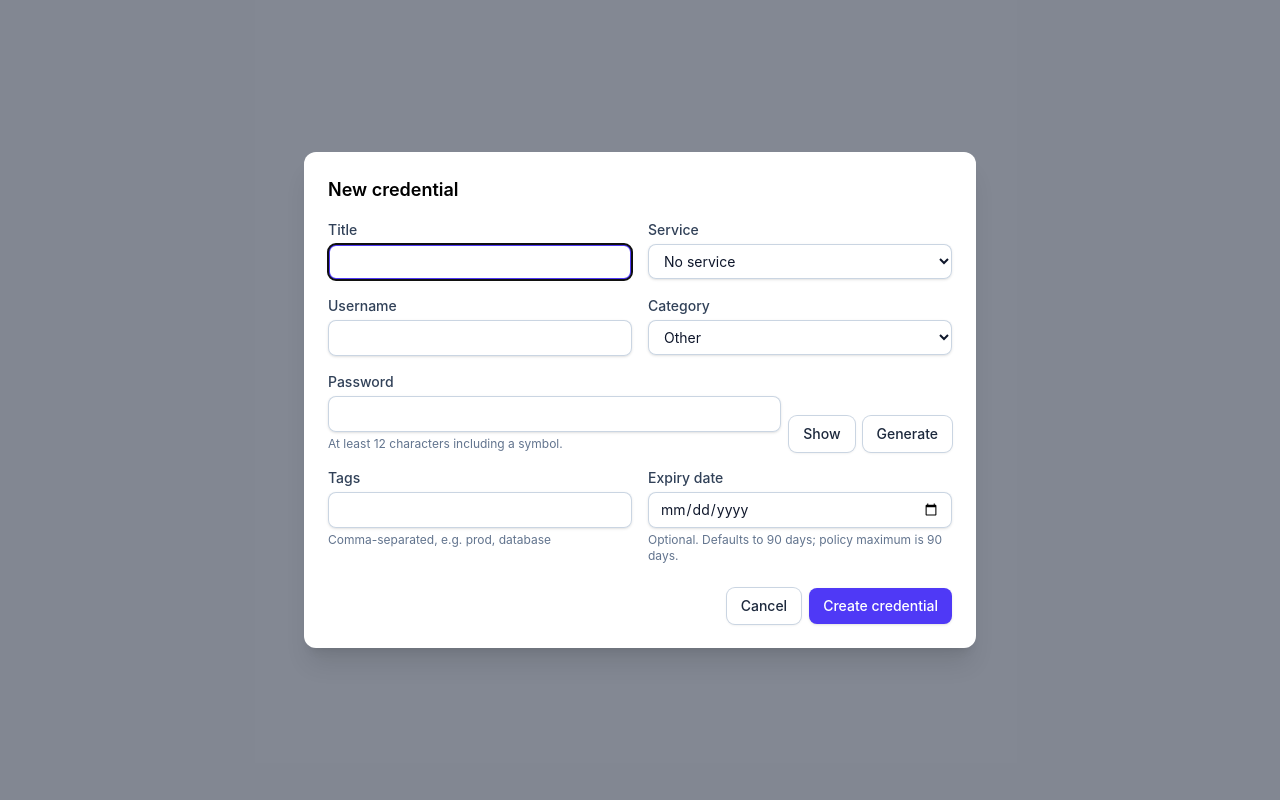
CredentialFormModal (create) › generates a password on the server and shows its strength
The image size is (1280, 800).
Click the button "Generate". click: (907, 434)
box: x1=862 y1=416 x2=952 y2=452
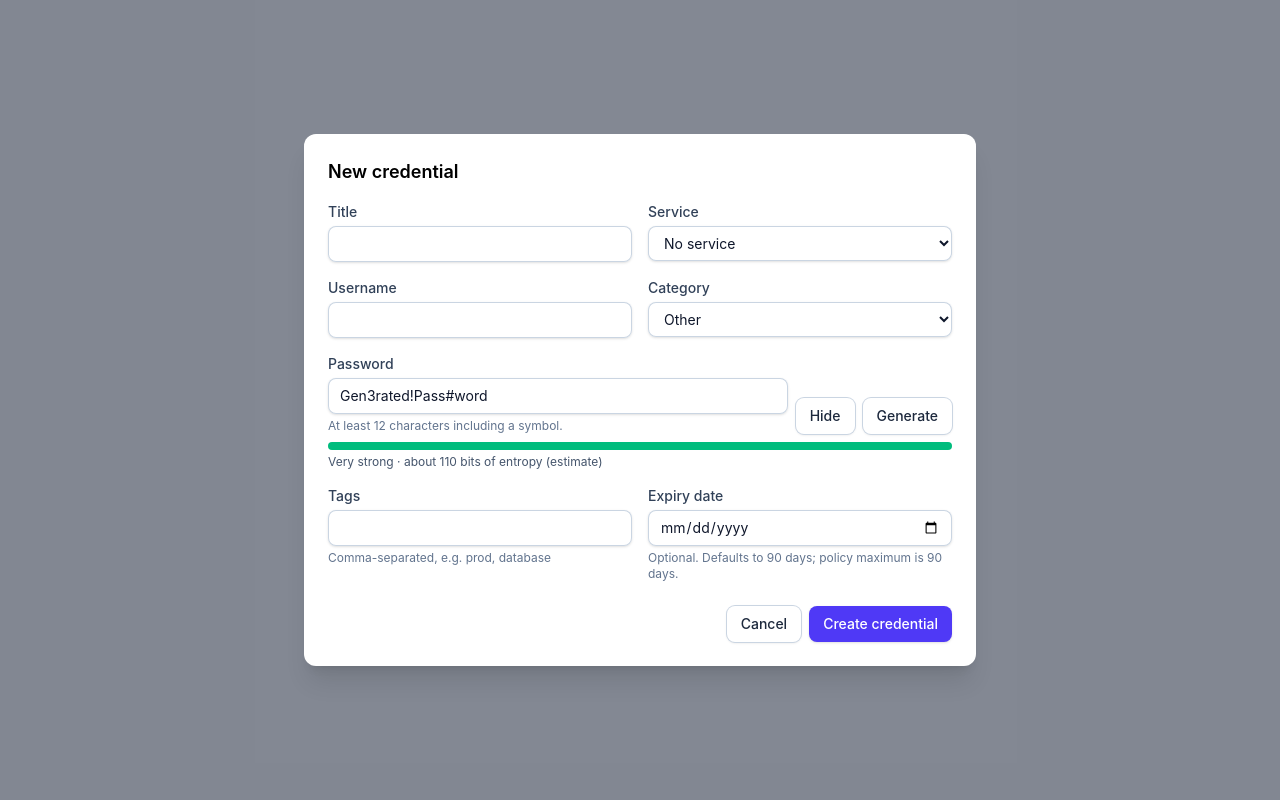
Result: the field labelled "Password" holds "Gen3rated!Pass#word" at x1=328 y1=378 x2=788 y2=414
Result: the field labelled "Password" shows its text at x1=328 y1=378 x2=788 y2=414
Result: the text "Very strong · about 110 bits of entropy (estimate)" is shown at x1=328 y1=454 x2=603 y2=469
